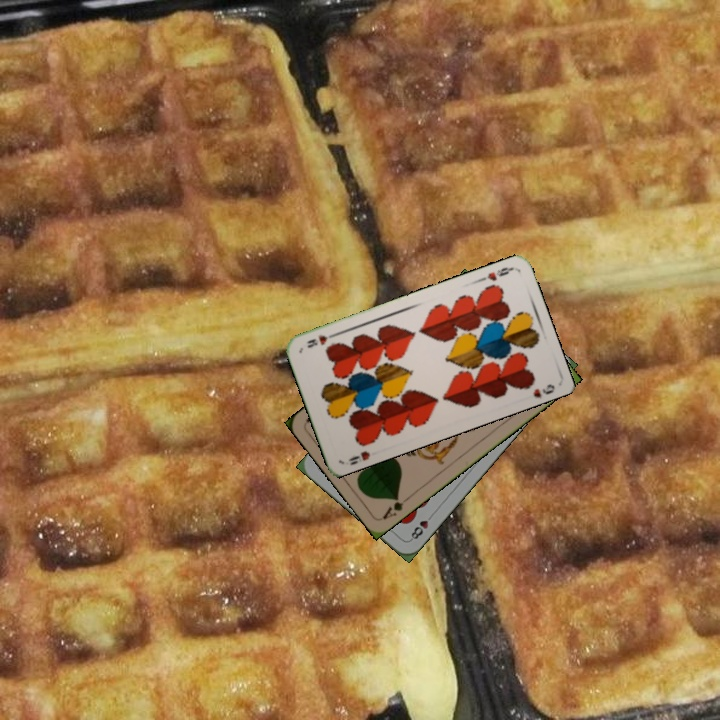GA: (378, 492, 413, 522)
H8: (406, 509, 436, 543)
H9: (476, 263, 515, 284), (344, 447, 372, 468)
